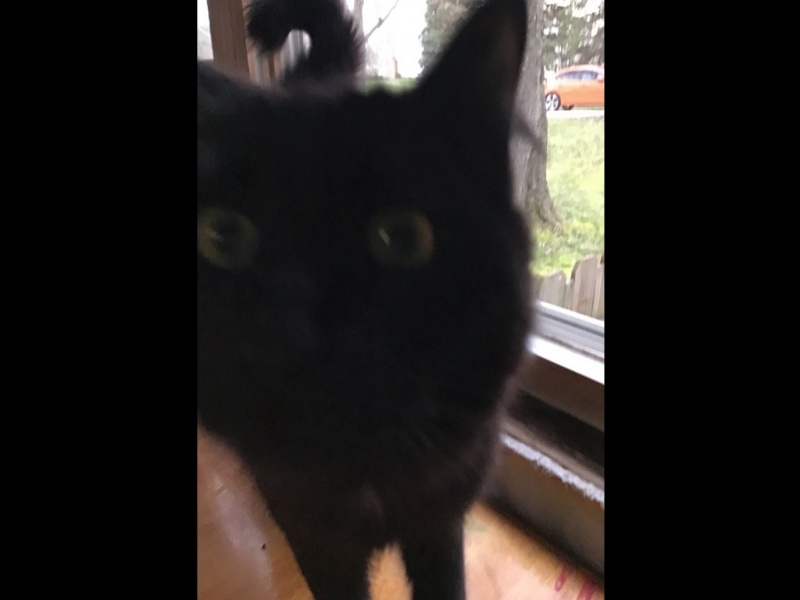cat: (196, 3, 539, 591)
